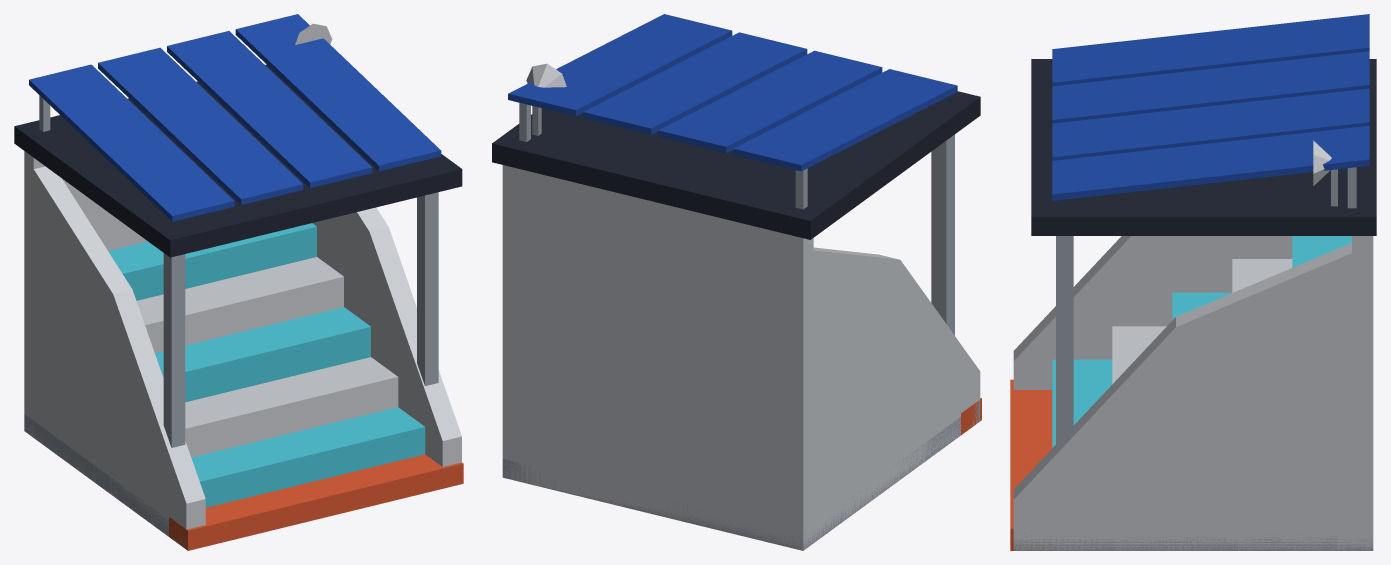
File: stand.glb
3 renders of one model, left to right at view 1: azimuth 30°, elevation 25°; view 2: azimuth 150°, elevation 25°; view 3: azimuth 270°, elevation 25°, orthographic. The views are drawn at different scales.
Visible parts, largest first — view 1: moon-stand; view 2: moon-stand; view 3: moon-stand.
Boxes of the visible parts, left/top/right/bottom form: moon-stand: left=14, top=14, right=463, bottom=550; moon-stand: left=492, top=14, right=981, bottom=550; moon-stand: left=1010, top=14, right=1376, bottom=550.
Bounding box in the file's own units: 1.06 × 1.26 × 1.04.
